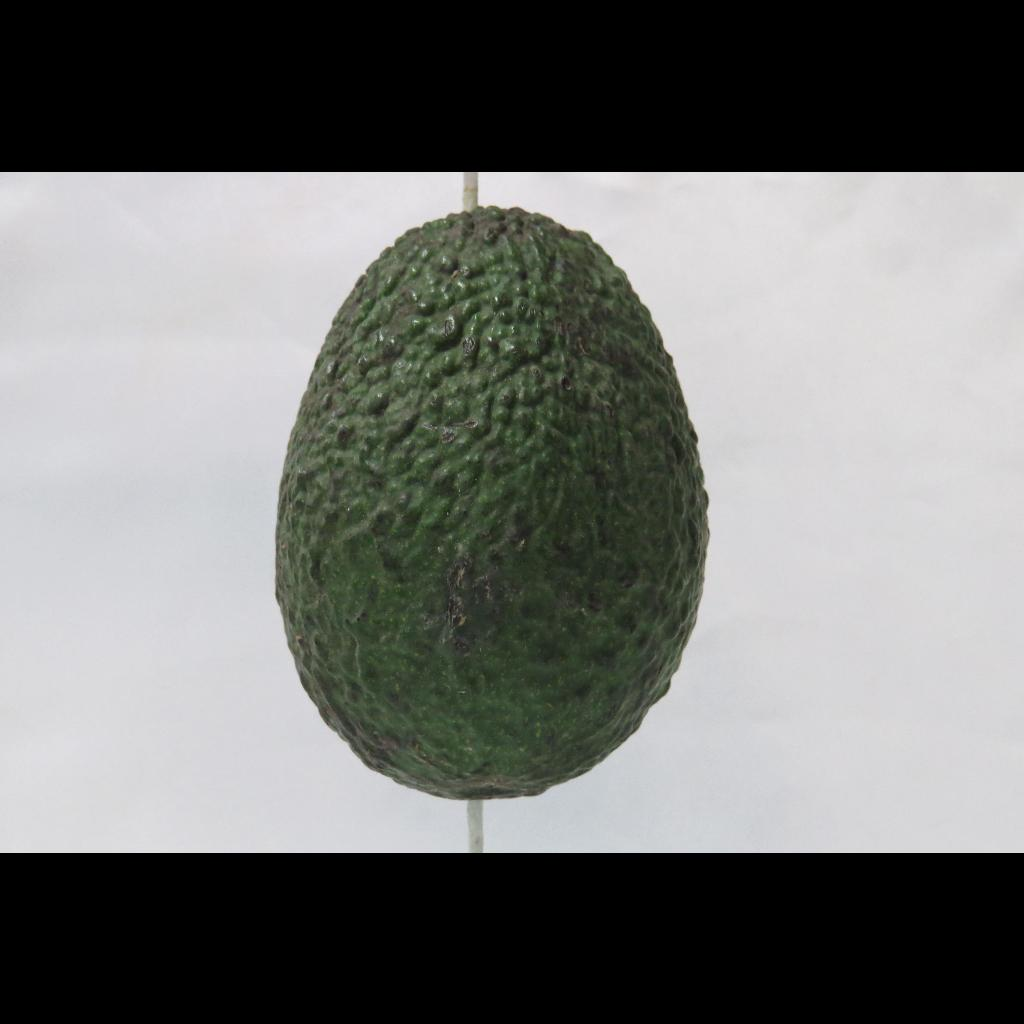Healthy: (227, 188, 755, 824)
